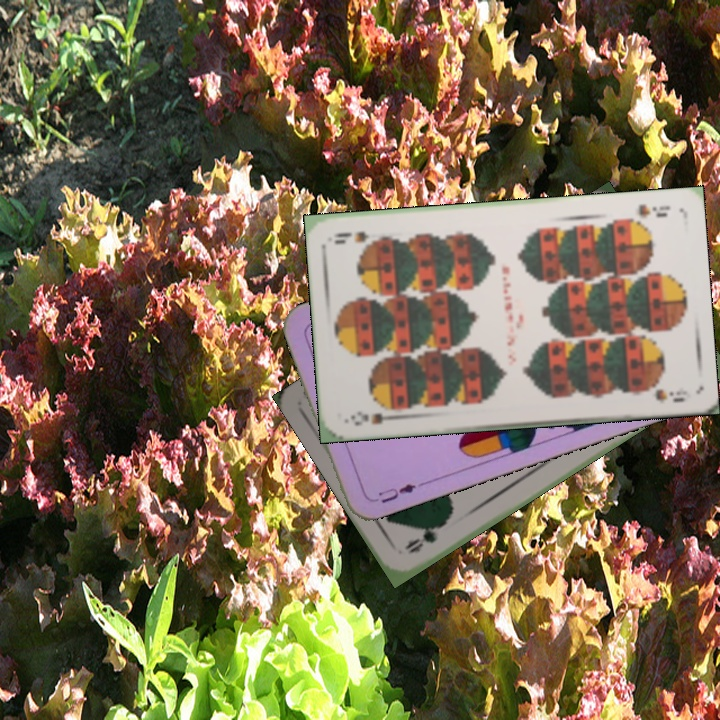EU: (367, 478, 425, 506)
GO: (401, 515, 450, 557)
S9: (346, 407, 403, 428), (634, 199, 672, 220)
